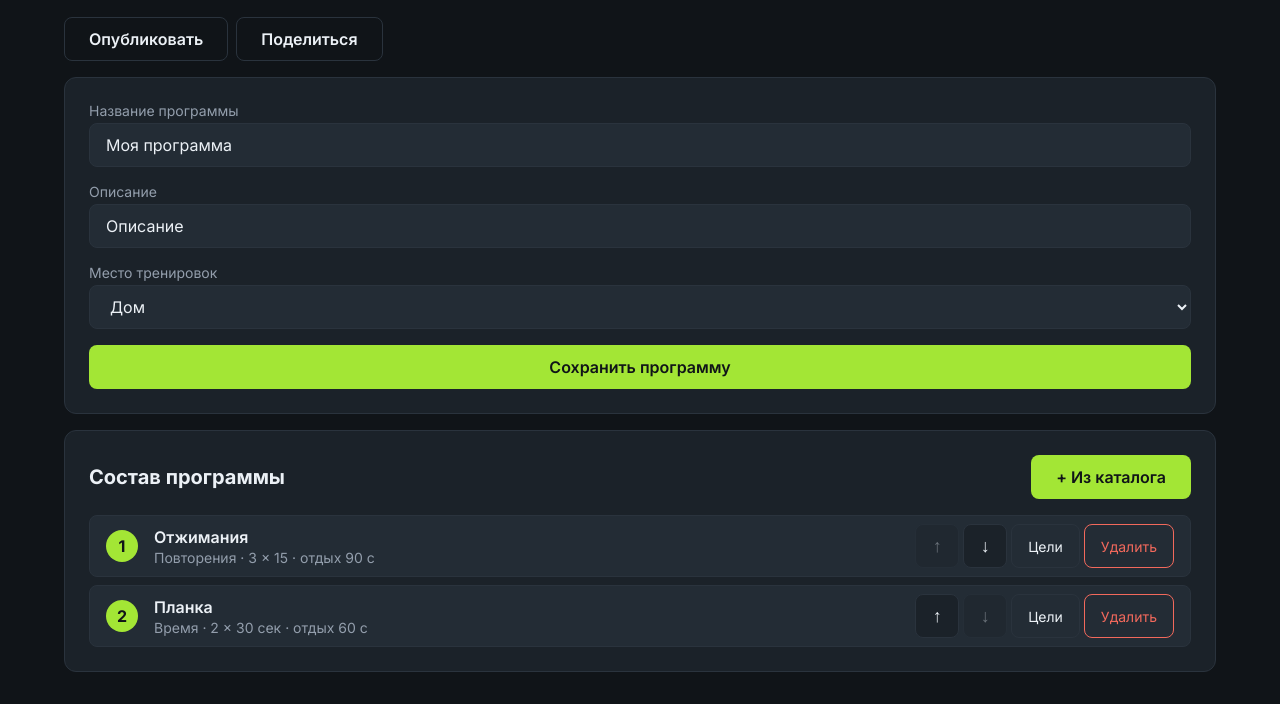
Scenario: ProgramDetailPage — порядок и удаление › удаление строки состава с подтверждением → DELETE
(page scrolled)
Expected: the heading "Состав программы" is shown, [89,465,285,489]
What coordinates should you click on to do the following:
click the button "Удалить" in the row of "3 × 15 · отдых 90 с"
I would click on:
 (1129, 546)
Its box is [1084,524,1174,568].
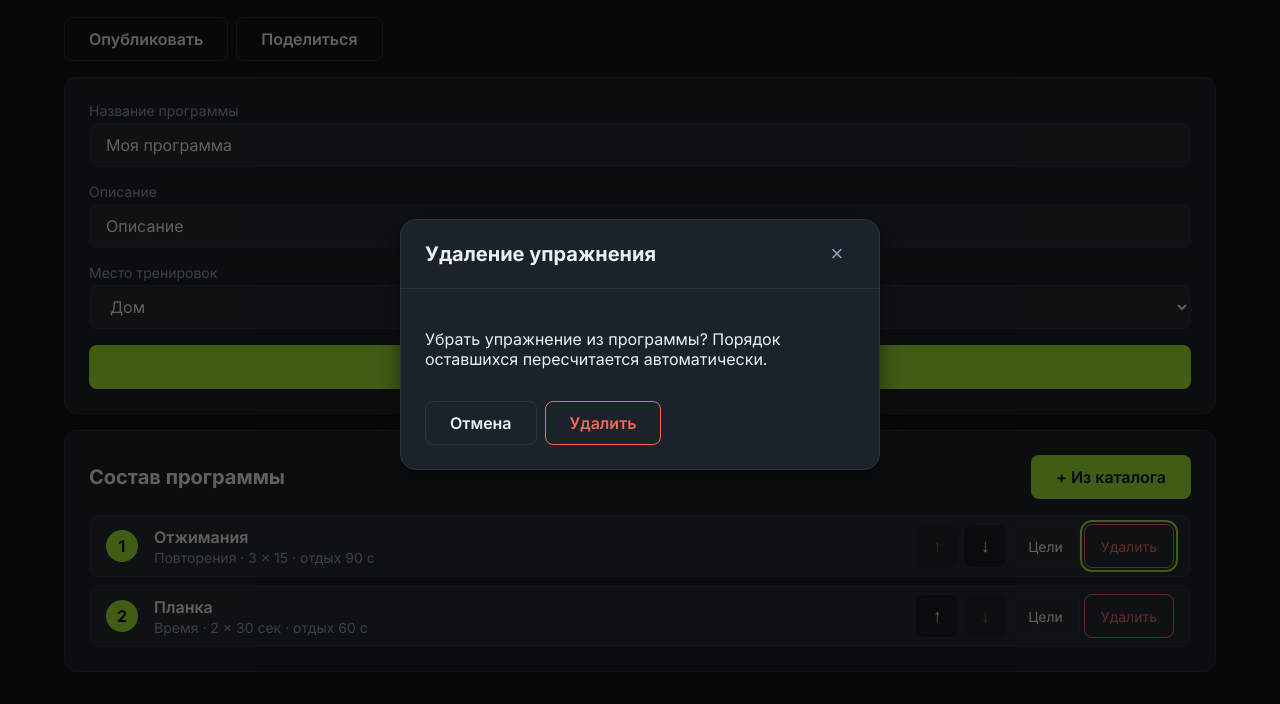
Now the text "Убрать упражнение из программы" is shown, box [425,328,780,368]
What coordinates should you click on to do the following:
click the button "Удалить"
I would click on:
 (603, 422)
Its box is [545,400,662,444].
(page scrolled)
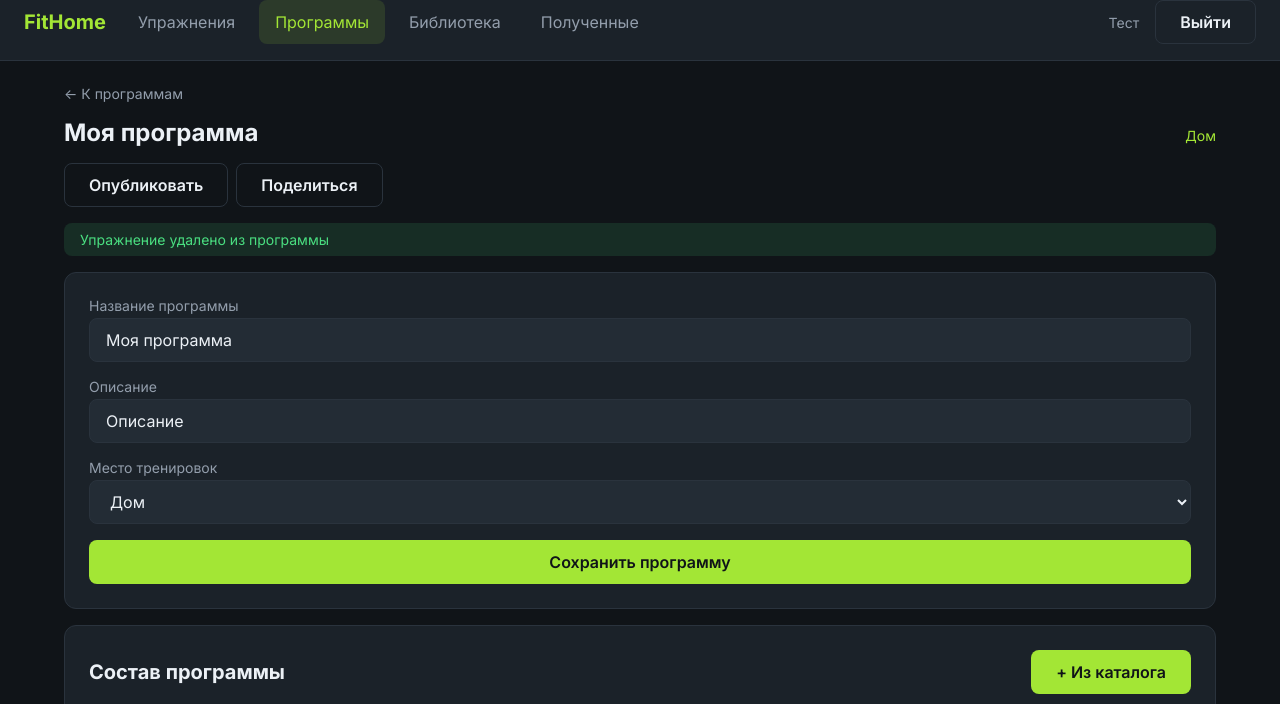
Now the text "Упражнение удалено из программы" is shown, box [64,223,1216,256]
